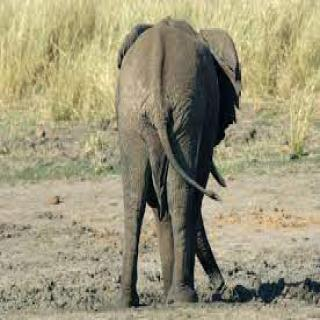Elephant: (112, 11, 250, 312)
